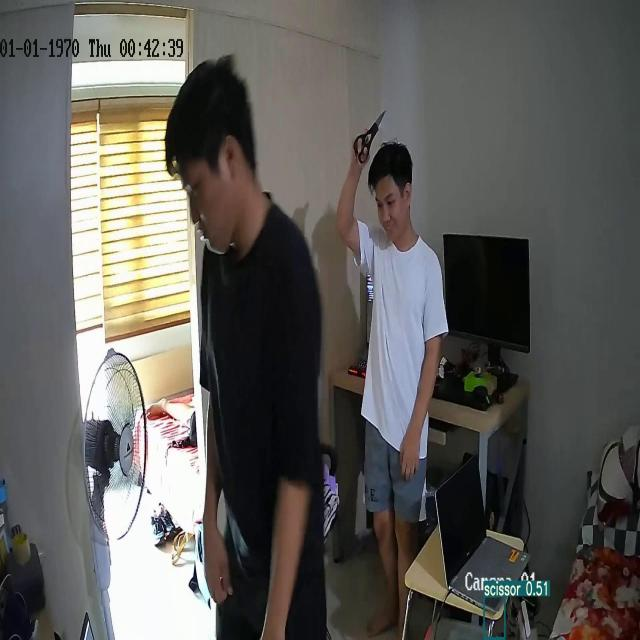scissor: (353, 110, 386, 163)
